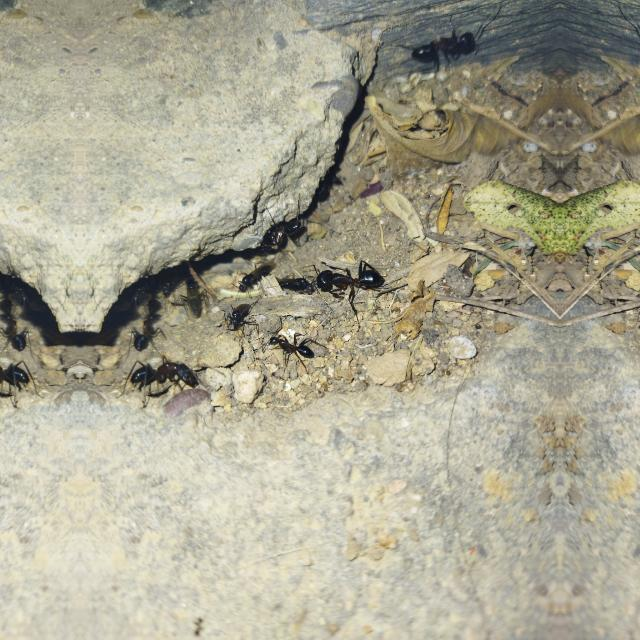Camponotus: (264, 314, 336, 372), (125, 352, 203, 396), (408, 24, 480, 70), (320, 260, 386, 306), (260, 204, 318, 254), (127, 307, 163, 357), (268, 264, 320, 298), (232, 256, 274, 298), (0, 307, 32, 357), (0, 352, 34, 396), (225, 300, 253, 334)
